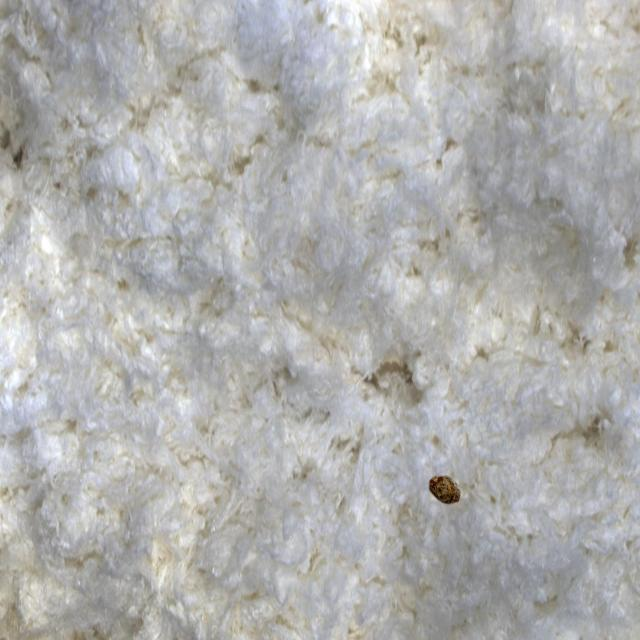dust: (419, 447, 481, 542)
